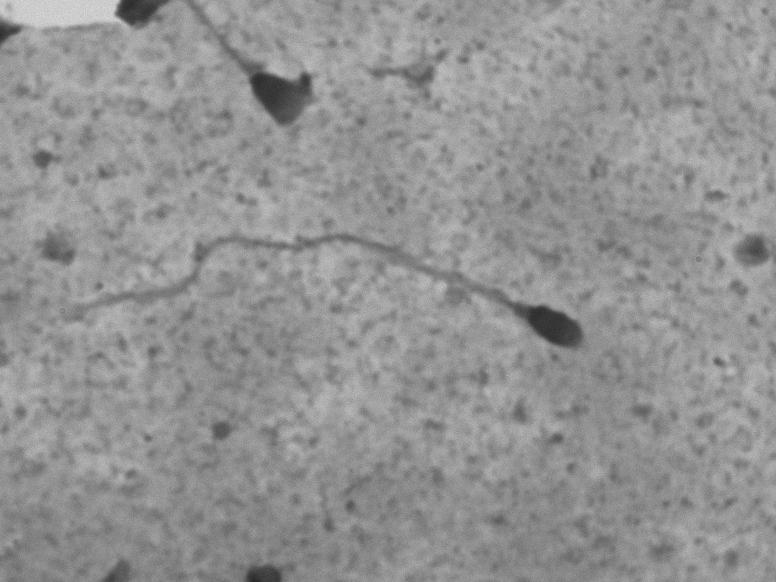Abnormal: (143, 9, 338, 143)
Normal: (49, 216, 603, 393)
